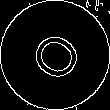O_SE: (22, 23, 88, 87)
